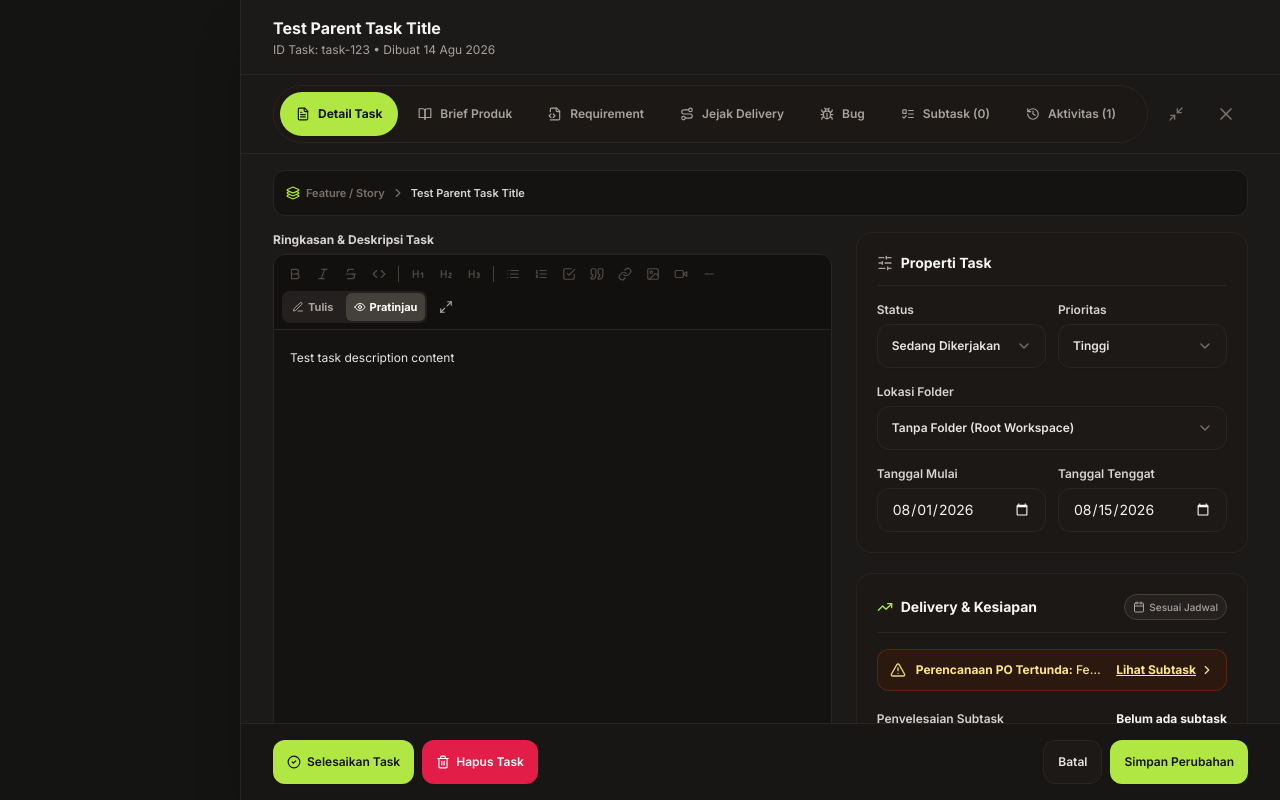
Scenario: TaskDetailDrawer UI Component › renders bulk Requirement deletion activity as a human-readable audit entry
This screenshot has width=1280, height=800.
Expected: the heading "Test Parent Task Title" is shown, [273,18,441,38]
Click the tab "Aktivitas (1)": click(1071, 114) [1010,92,1132,136]
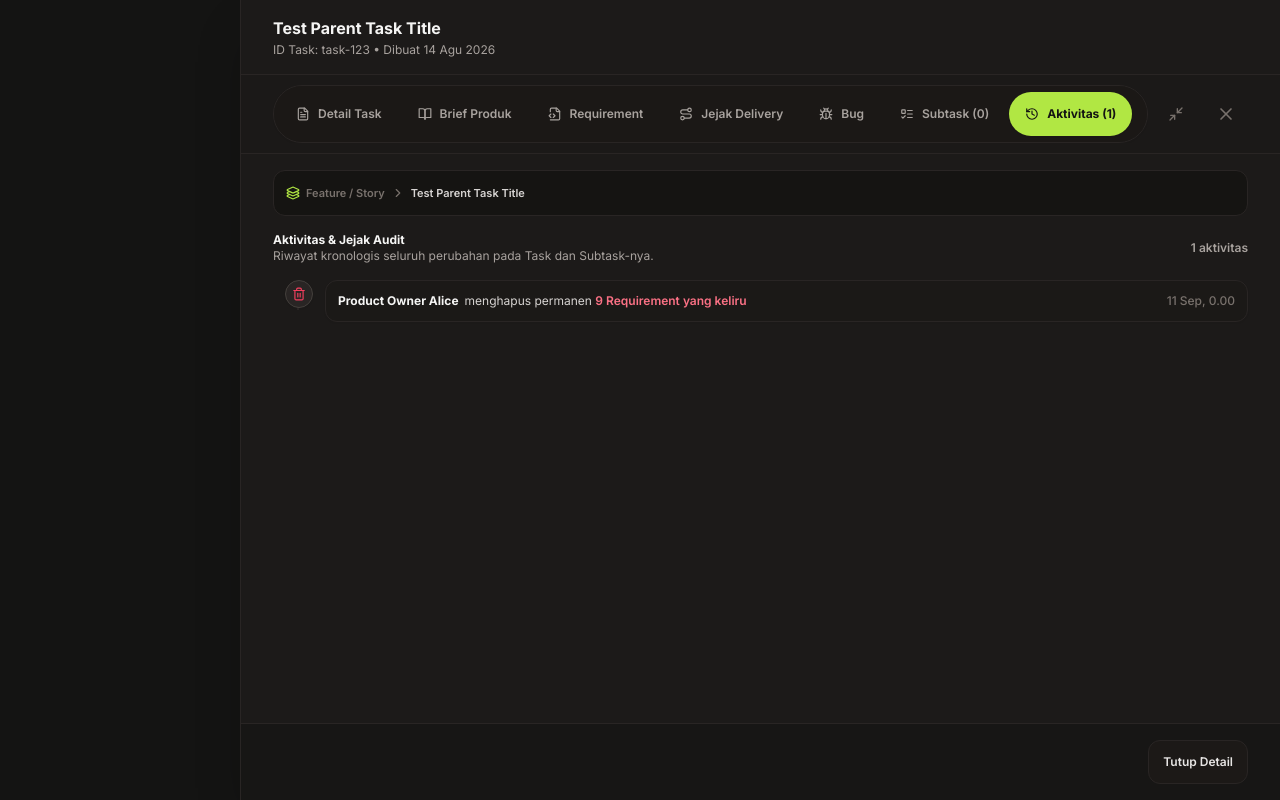
Expected: the text "9 Requirement yang keliru" is shown, [595,293,747,308]
